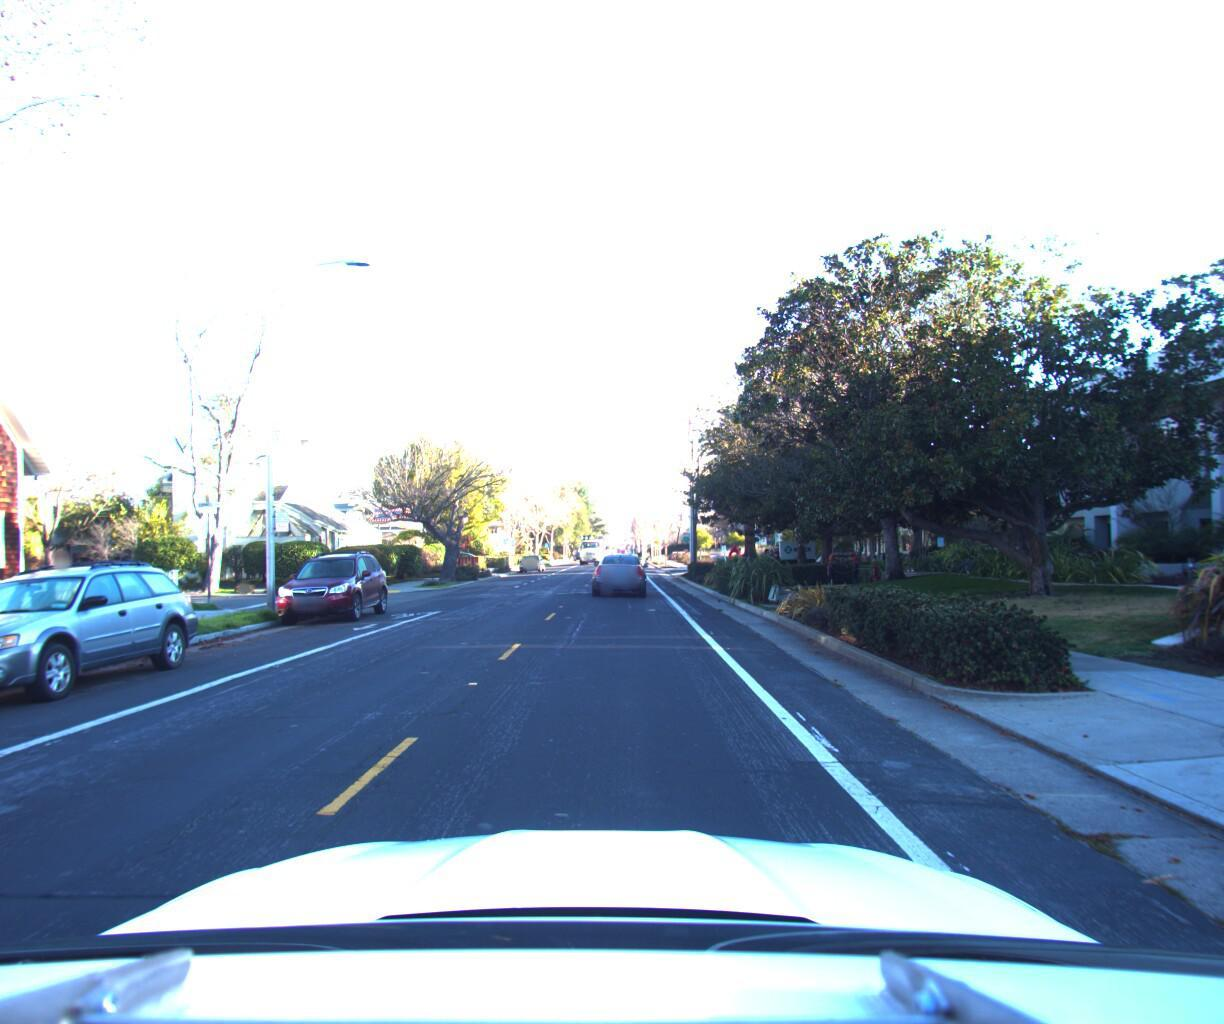car: (0, 550, 218, 730), (259, 542, 400, 624), (590, 544, 652, 593), (515, 545, 545, 564)
